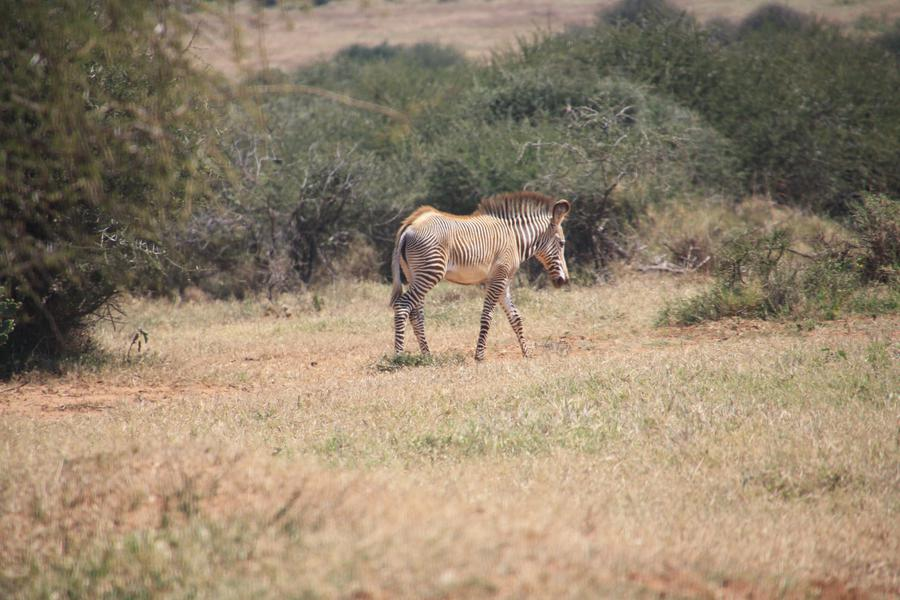zebra_grevys: (400, 194, 523, 274)
